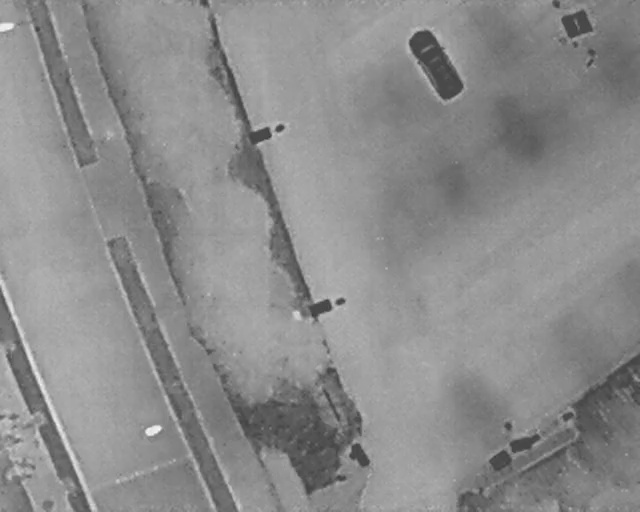Car: (401, 22, 470, 105)
